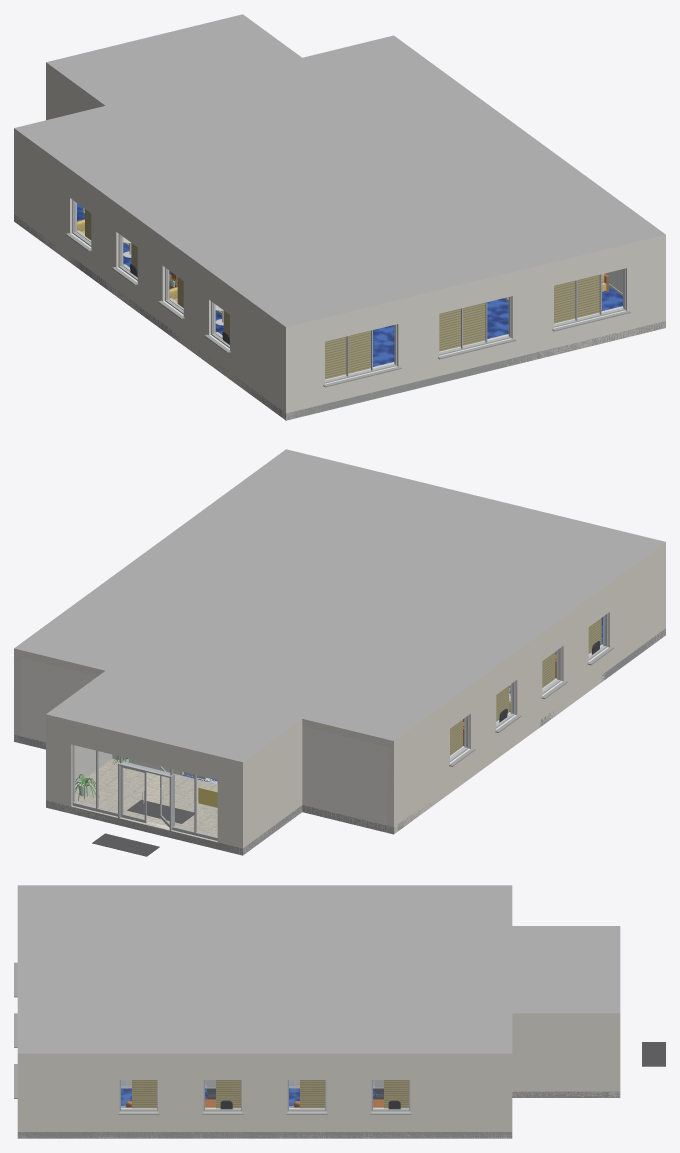
Rendered from GA_Office.glb.
3 views of the same model, one above another, from view 1: azimuth 30°, elevation 25°; view 2: azimuth 150°, elevation 25°; view 3: azimuth 270°, elevation 25° (orthographic). The views are drawn at different scales.
Visible parts, largest first — view 1: GO_Room_Shell, GO_Windows, GO_Cabin_Furniture; view 2: GO_Room_Shell, GO_Doors, GO_Windows; view 3: GO_Room_Shell, GO_Windows, GO_Chairs, GO_Doors, GO_Cabins_Glass.
Part boxes in pixels (x1,y1,x2,y2): GO_Room_Shell: (14,14,665,420); GO_Windows: (65,200,630,387); GO_Cabin_Furniture: (77,219,608,331); GO_Room_Shell: (14,449,665,855); GO_Doors: (72,745,217,856); GO_Windows: (449,613,614,766); GO_Room_Shell: (17,885,620,1138); GO_Windows: (14,962,411,1114); GO_Chairs: (125,1080,400,1109); GO_Doors: (642,1042,665,1066); GO_Cabins_Glass: (121,1080,383,1107).
Bounding box in the file's own units: 33.8 × 7.8 × 54.3.
Materials: 54 (25 with a texture image).
